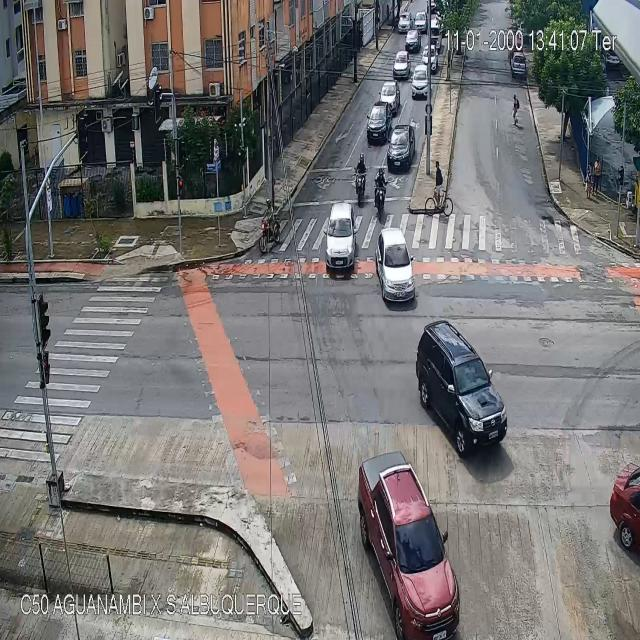Car: (359, 453, 463, 639), (415, 321, 509, 453), (376, 228, 416, 305), (324, 198, 359, 274), (610, 462, 640, 550), (388, 125, 414, 172), (366, 104, 391, 140), (411, 66, 431, 102), (426, 17, 442, 51), (392, 50, 409, 80), (380, 81, 399, 106), (422, 46, 438, 72), (511, 53, 525, 75), (406, 28, 418, 52), (398, 13, 409, 33), (414, 11, 425, 31)
Motorcycle: (259, 198, 280, 252), (354, 150, 368, 202), (376, 165, 386, 221)
